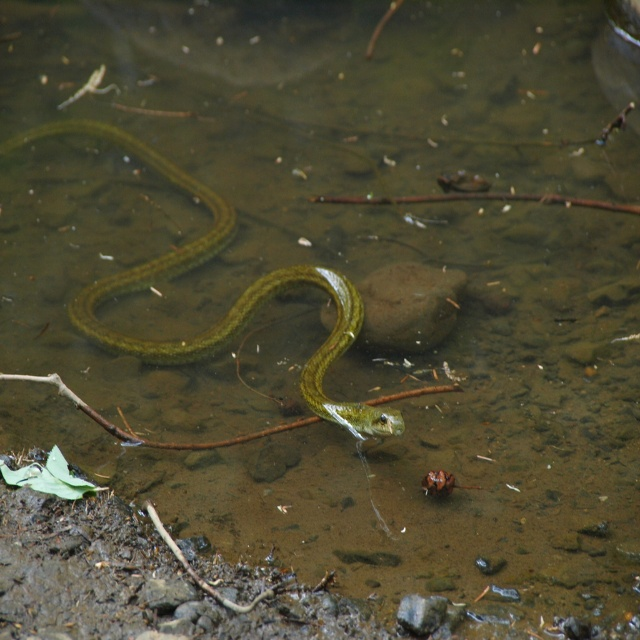Snake: (0, 116, 406, 438)
